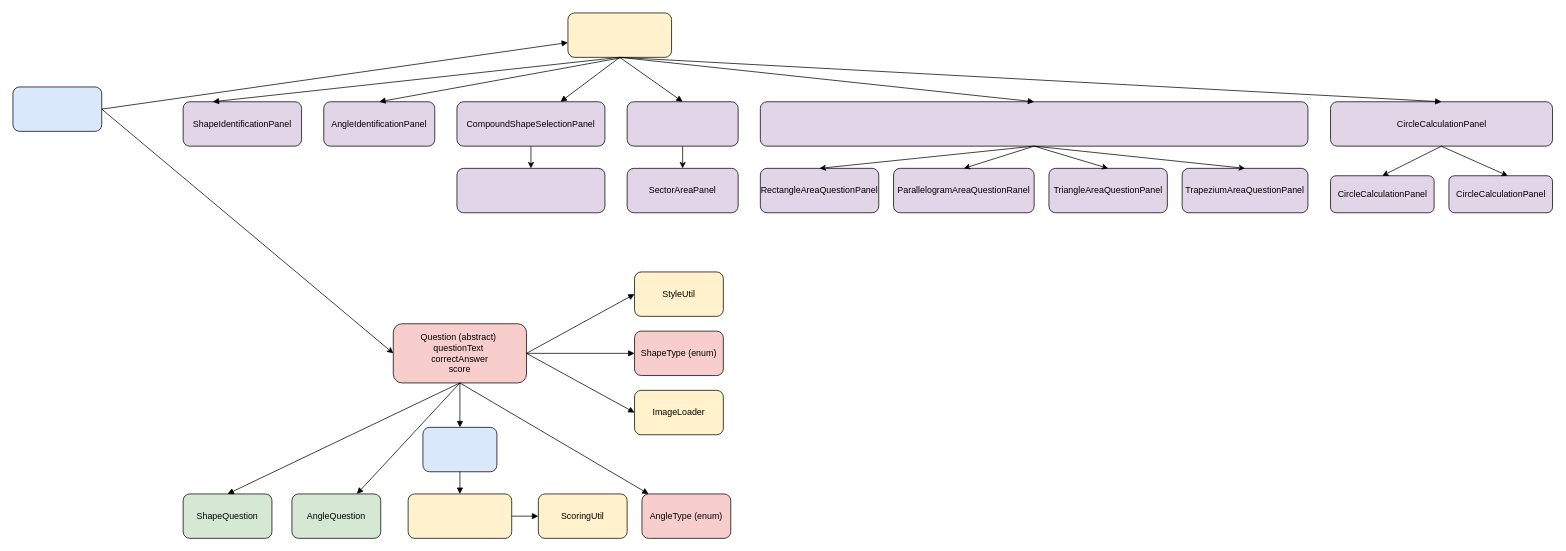
This 1566x551 diagram has some shape labels left out. Here are the shapes that lost their labels. From the top down, the centre of each, then its label:
At [619,34]: "MainMenuPanel".
At [57,108]: "ShapervilleApp".
At [682,123]: "SectorSelectionPanel".
At [1034,123]: "ShapeAreaPanel".
At [530,190]: "CompoundShape Panel".
At [459,449]: "Score".
At [459,515]: "ScoreManager (singleton)".
